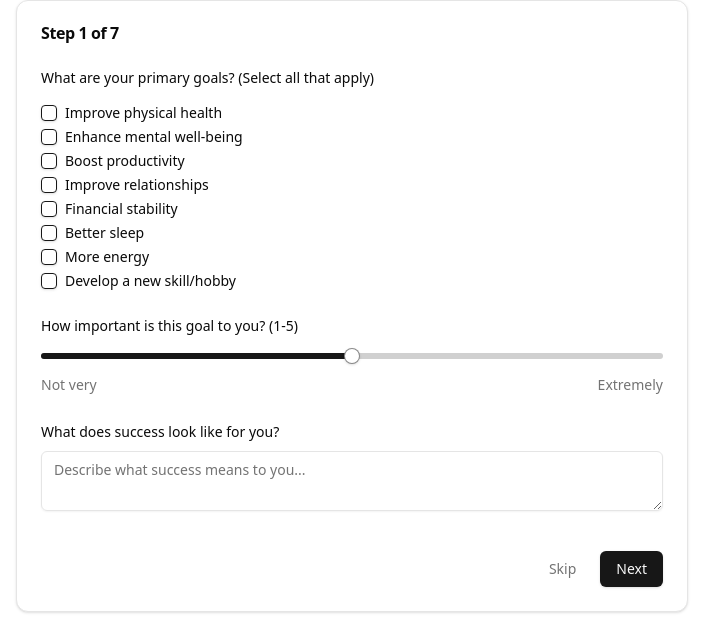
Scenario: OnboardingForm › can navigate between steps
Click the button "Next" at point(632, 569), box [600, 551, 663, 587]
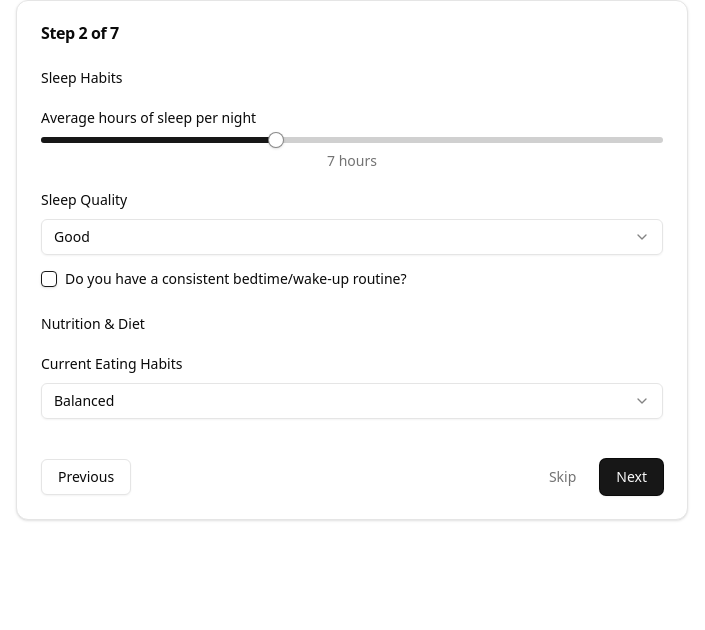
Check: the heading "Step 2 of 7" is shown, box [41, 22, 119, 44]
